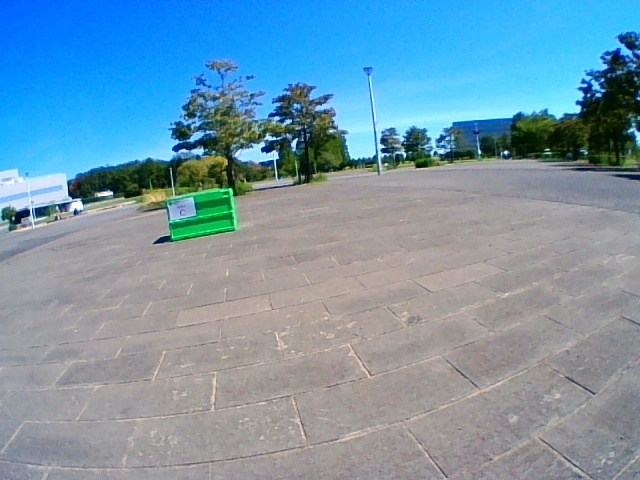green_box: (165, 188, 236, 240)
tag_c: (171, 202, 194, 216)
